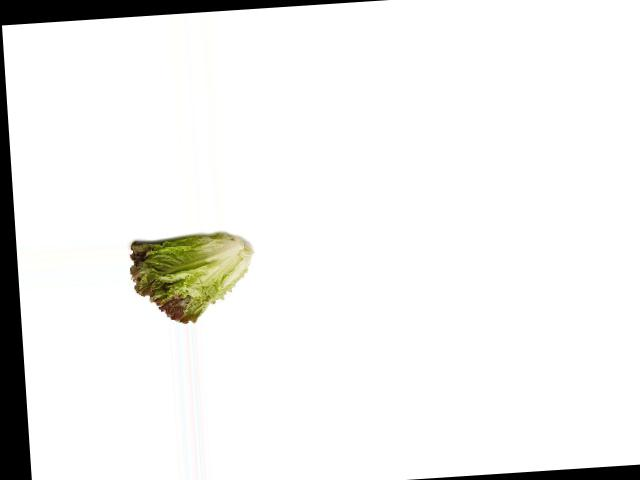lettuce: (126, 232, 255, 325)
